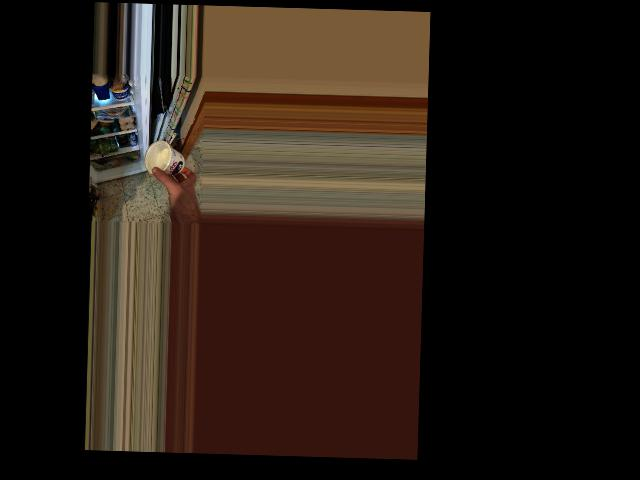cotage: (144, 135, 186, 179)
